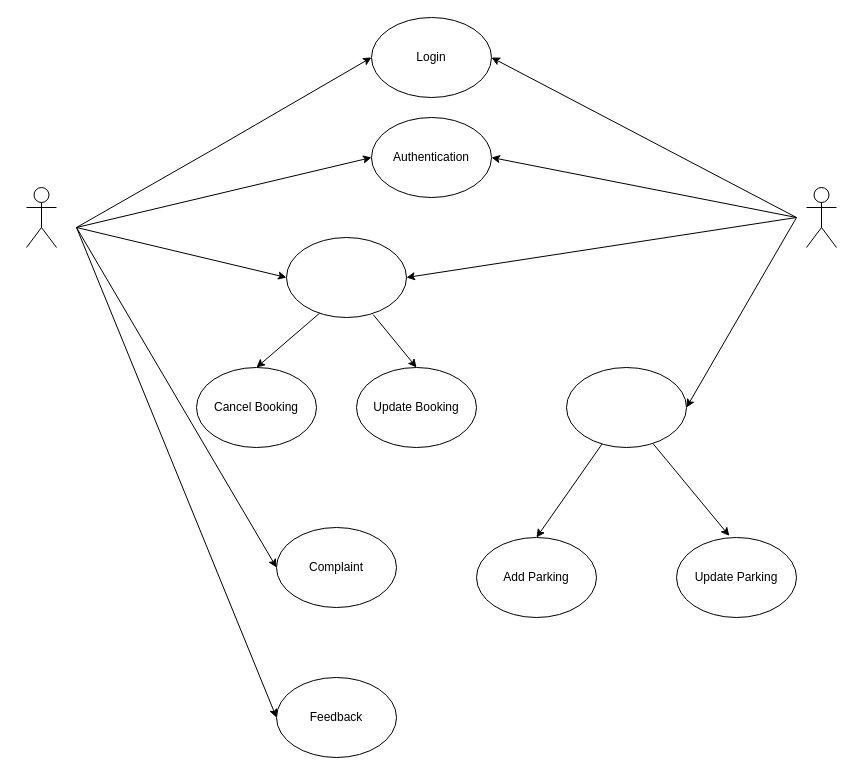
Some shapes in this 855 by 775 pixel diagram are drawn without their labels. The shapes that lost their labels are listed below. From the top down, each one's centre as x and y in pixels, then its label:
At pixel 41 217: "customer".
At pixel 821 217: "owner".
At pixel 346 277: "Manage Booking".
At pixel 626 407: "Manage Parking".
